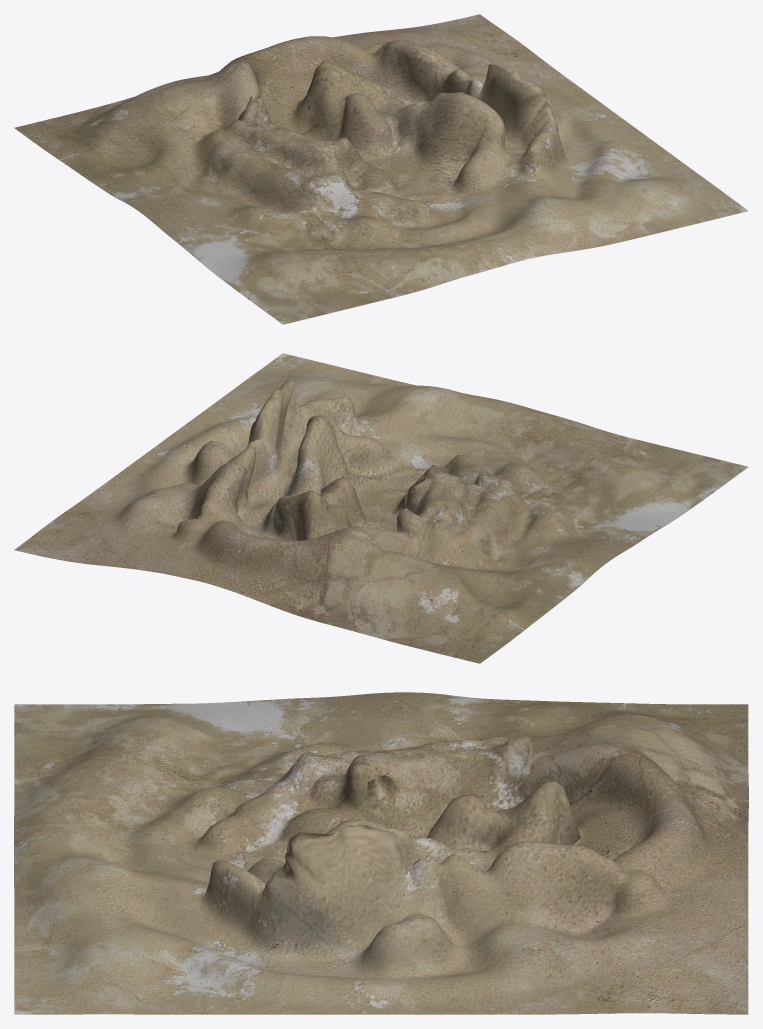
Rendered from 120m_landscape_smooth_tri.dae.
3 renders of one model, top to bottom at view 1: azimuth 30°, elevation 25°; view 2: azimuth 150°, elevation 25°; view 3: azimuth 270°, elevation 25°, orthographic. The views are drawn at different scales.
Visible parts, largest first — view 1: Plane; view 2: Plane; view 3: Plane.
Boxes of the visible parts, x1,y1,x2,y2 form: Plane: (14, 14, 748, 324); Plane: (14, 353, 748, 663); Plane: (14, 692, 748, 1014).
Bounding box in the file's own units: 127 × 127 × 21.19.
1 material, 1 textured.
